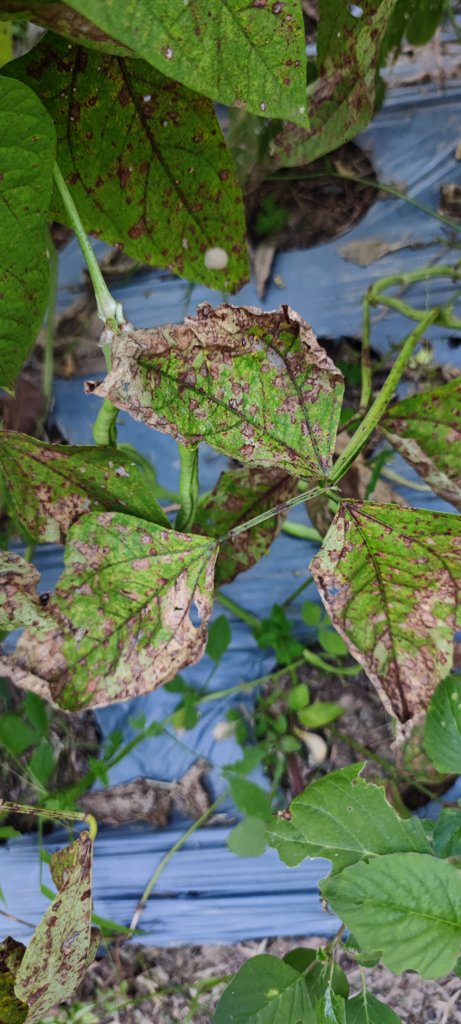Rust: (8, 29, 267, 298), (88, 301, 339, 483), (3, 513, 221, 717), (307, 496, 458, 750), (72, 3, 313, 124), (262, 5, 411, 183), (2, 420, 166, 556), (179, 451, 299, 604), (377, 372, 458, 508)
